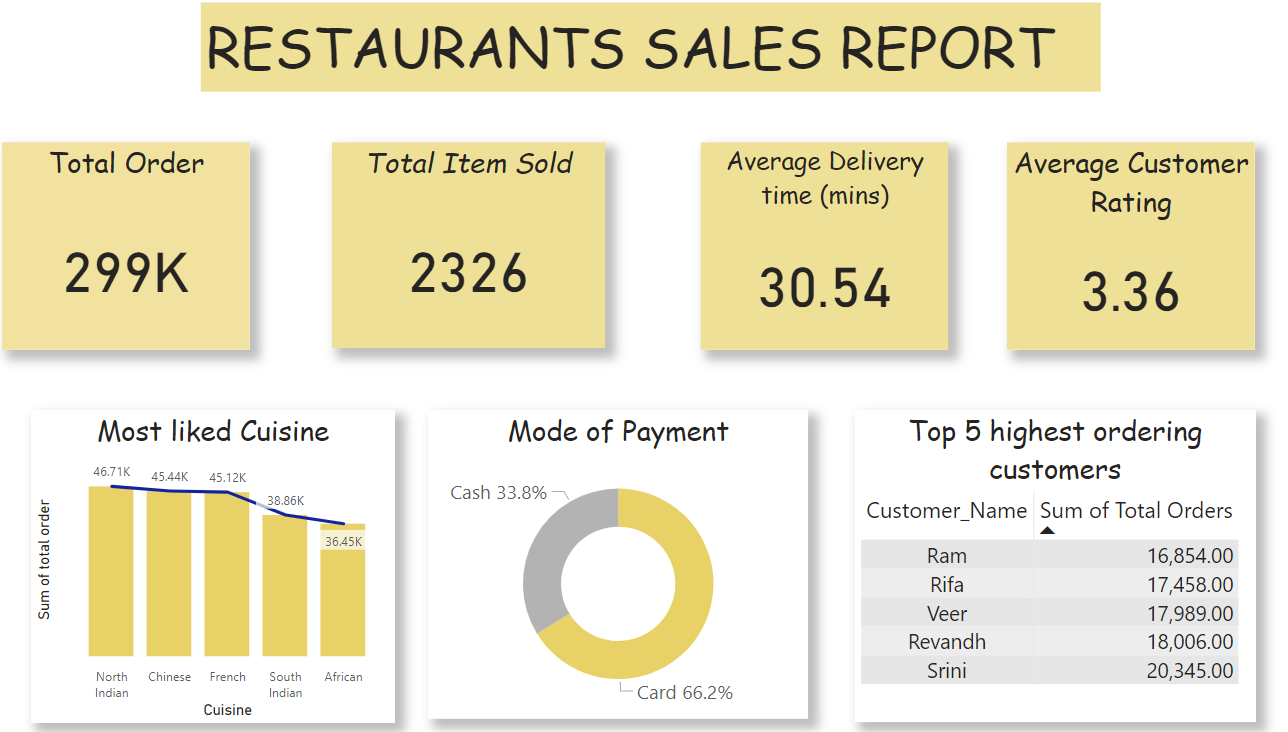

The page's visual inventory and layout, read from the dashboard file:
{"tool":"powerbi","page":{"name":"Page 1","canvas":[1298,723],"ordinal":0},"visuals":[{"type":"card","title":"Total Order","fields":{"Values":["Sum(project orders_data.Order_Amount)"]},"box":[43.9,148.3,240.3,200.5],"z":0},{"type":"card","title":"Total Item Sold","fields":{"Values":["Sum(project orders_data.Quantity_of_items)"]},"box":[363.5,147.6,264.6,199.2],"z":1000},{"type":"card","title":"Average Delivery time (mins)","fields":{"Values":["Avg(project orders_data.Delivery_time_taken_mins)"]},"box":[721,148.3,240.3,200.5],"z":2000},{"type":"card","title":"Average Customer Rating","fields":{"Values":["Avg(project orders_data.Customer_Rating_Food)"]},"box":[1017.7,148.3,240.3,200.5],"z":3000},{"type":"textbox","box":[44,553,477,167],"z":4000},{"type":"textbox","box":[236.2,12.4,872.1,86.5],"z":5000},{"type":"lineClusteredColumnComboChart","title":"Most liked Cuisine","fields":{"Category":["Query3.Cuisine"],"Y":["Sum(Query3.total order)"],"Y2":["Sum(Query3.total order)"]},"box":[71.4,406.5,353,303.5],"z":6000},{"type":"donutChart","title":"Mode of Payment","fields":{"Category":["Query2.Mode_of_Payment"],"Y":["Sum(Query2.Quantity)"]},"box":[456,406.5,368.1,299.4],"z":7000},{"type":"tableEx","title":"Top 5 highest ordering customers","fields":{"Values":["Query4.Customer_Name","Sum(Query4.Total Orders)"]},"box":[869,406.7,388.6,302.2],"z":8000}]}

Visuals, with their boxes in screenshot pixels (x1, y1, x2, y2), scaled from the page's 1298x723 canvas onto the 1288x732 screenshot:
"Total Order" card: (44,150,282,353)
"Total Item Sold" card: (361,149,623,351)
"Average Delivery time (mins)" card: (715,150,954,353)
"Average Customer Rating" card: (1010,150,1248,353)
textbox: (44,560,517,729)
textbox: (234,13,1100,100)
"Most liked Cuisine" lineClusteredColumnComboChart: (71,412,421,719)
"Mode of Payment" donutChart: (452,412,818,715)
"Top 5 highest ordering customers" tableEx: (862,412,1248,718)
